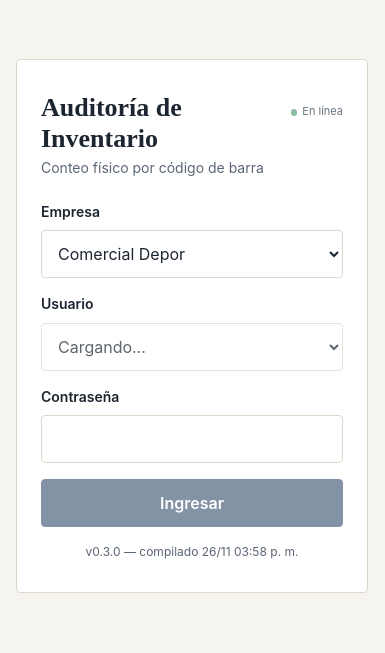
Test case: App (costura de integración) › un login fallido deja el formulario visible con el mensaje de error
Expected: the button "Ingresar" is shown, [41, 479, 343, 527]
Select "Comercial Depor" in the dropdown labelled "Empresa": (192, 254) [41, 230, 343, 278]
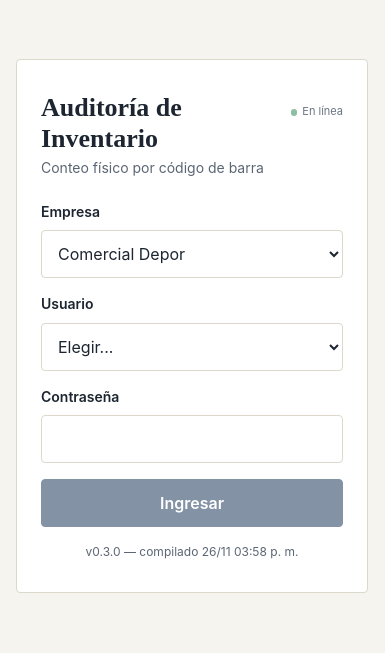
Select "Jorge Muñoz" in the dropdown labelled "Usuario": (192, 347) [41, 323, 343, 371]
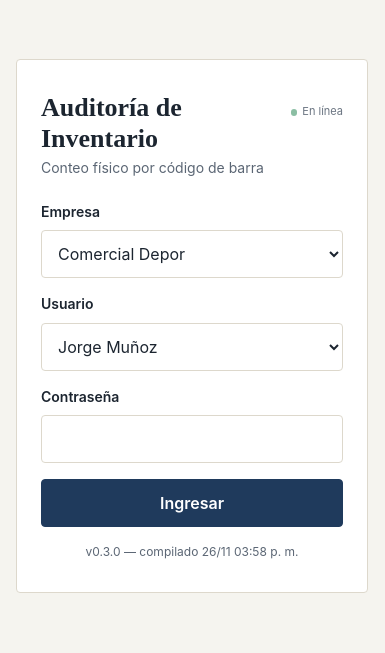
In the password field labelled "Contraseña": (192, 439) [41, 415, 343, 463], type "secreto"
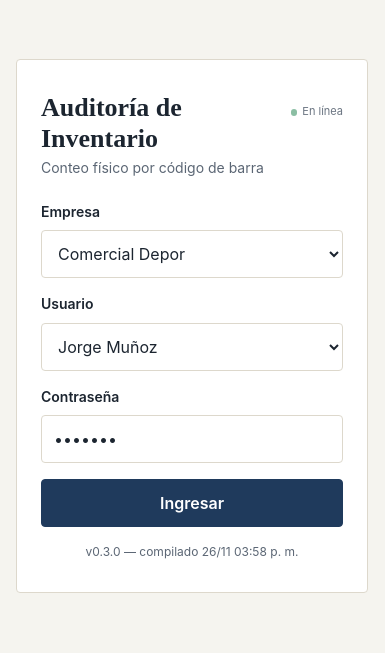
Click the button "Ingresar": (192, 503) [41, 479, 343, 527]
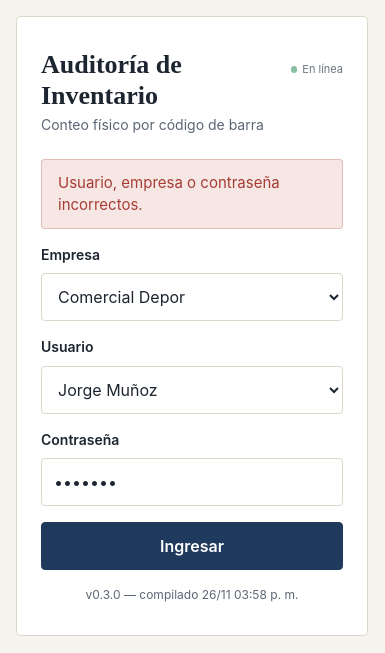
Expected: the button "Ingresar" is shown, [41, 522, 343, 570]
Expected: the message "Usuario, empresa o contraseña incorrectos." is shown, [41, 159, 343, 229]
